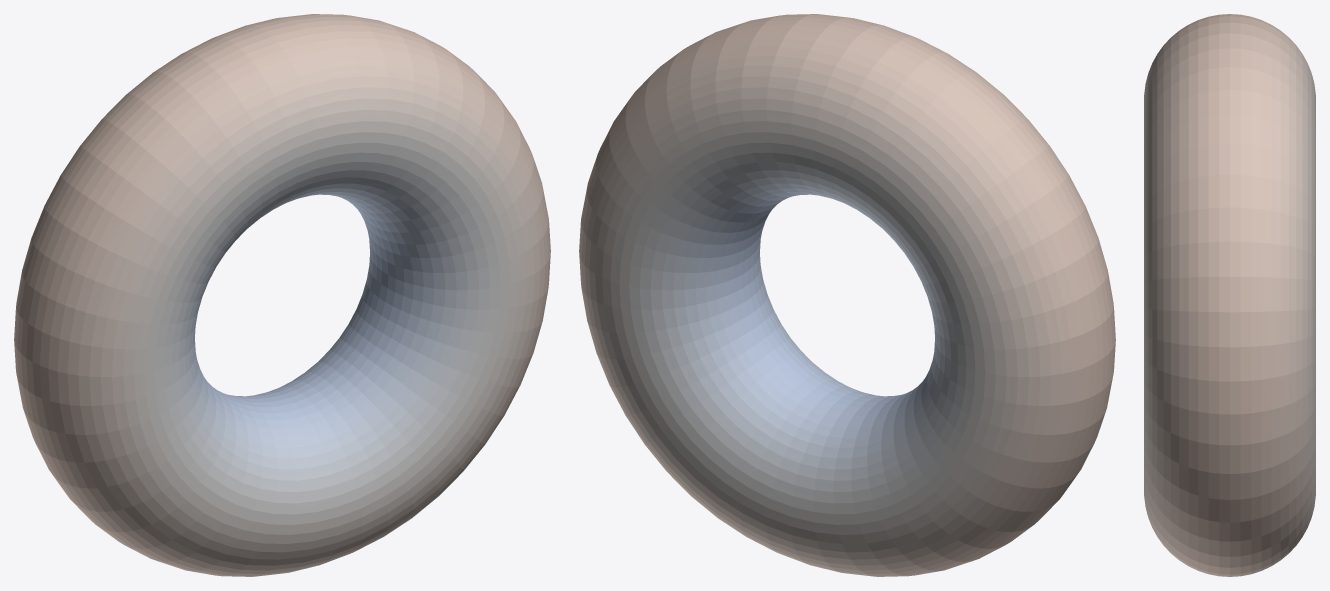
3 renders of one model, left to right at view 1: azimuth 30°, elevation 25°; view 2: azimuth 150°, elevation 25°; view 3: azimuth 270°, elevation 25°, orthographic. The views are drawn at different scales.
Visible parts, largest first — view 1: world; view 2: world; view 3: world.
Boxes of the visible parts, x1,y1,x2,y2 form: world: (14,14,550,576); world: (579,14,1115,576); world: (1144,14,1315,576).
Size of the model in its own units: 24 by 23.95 by 7.32.
